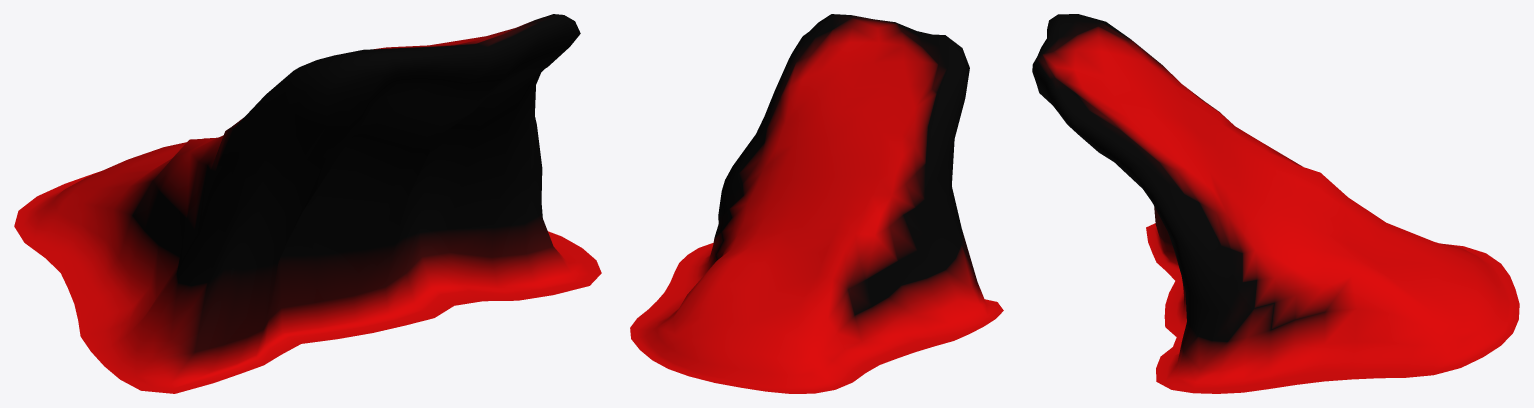
The model's file is GroundObject12D.fbx.
3 renders of one model, left to right at view 1: azimuth 30°, elevation 25°; view 2: azimuth 150°, elevation 25°; view 3: azimuth 270°, elevation 25°, orthographic. The views are drawn at different scales.
Parts seen in each view (by area): view 1: GroundObject12D; view 2: GroundObject12D; view 3: GroundObject12D.
Boxes of the visible parts, x1=… form: GroundObject12D: x1=14, y1=14, x2=601, y2=393; GroundObject12D: x1=630, y1=14, x2=1003, y2=393; GroundObject12D: x1=1032, y1=14, x2=1519, y2=393.
Bounding box in the file's own units: 3.17 × 2.2 × 3.71.
